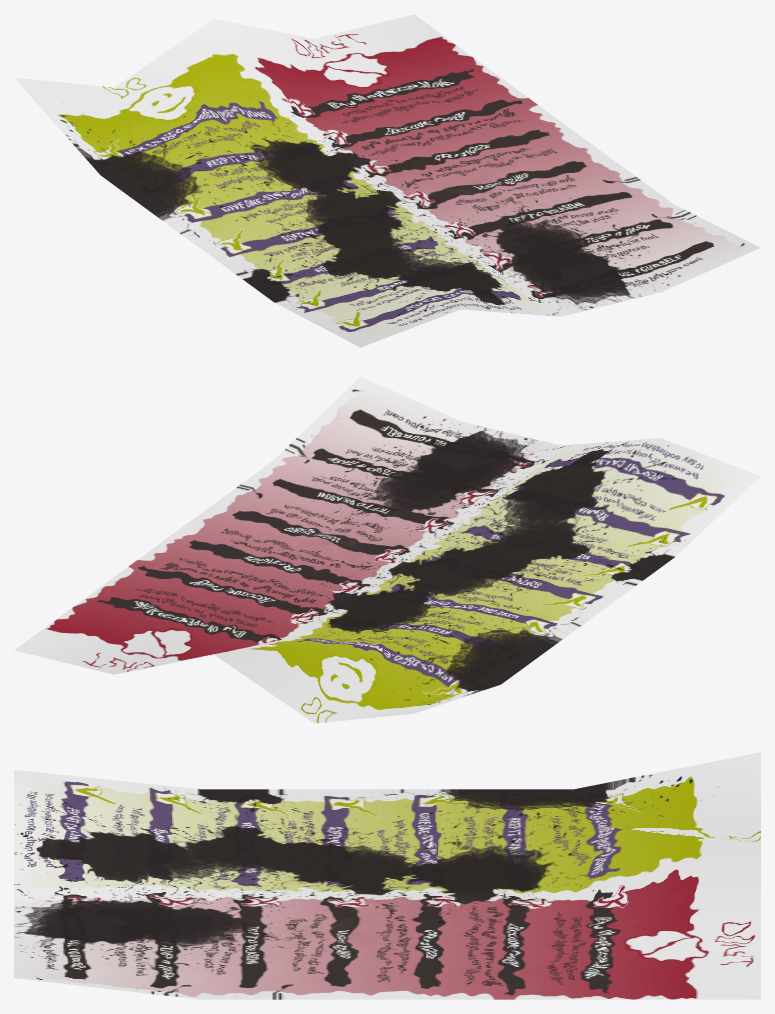
File: poster_Distortion.glb
3 views of the same model, one above another, from view 1: azimuth 30°, elevation 25°; view 2: azimuth 150°, elevation 25°; view 3: azimuth 270°, elevation 25° (orthographic). The views are drawn at different scales.
Visible parts, largest first — view 1: SM_Papers_05; view 2: SM_Papers_05; view 3: SM_Papers_05.
Part boxes in pixels (box(x1,y1,x2,y2)): SM_Papers_05: box(14, 14, 760, 347); SM_Papers_05: box(14, 376, 760, 723); SM_Papers_05: box(14, 752, 760, 999).
Bounding box in the file's own units: 0.1733 × 0.0183 × 0.2598.
1 material, 1 textured.
